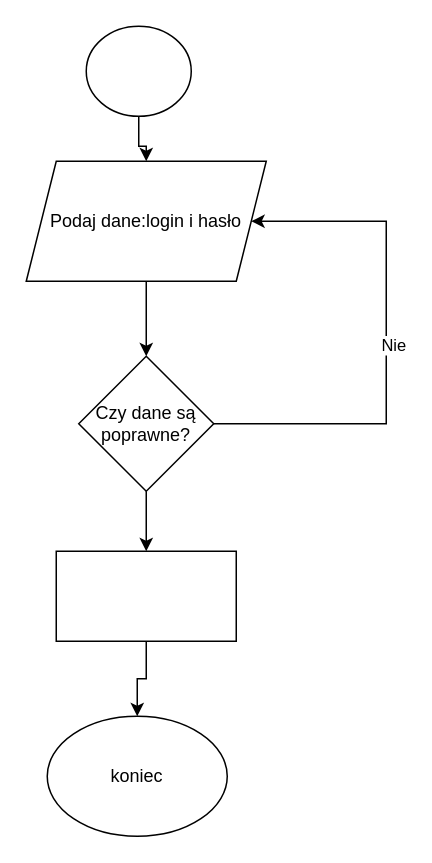
The diagram is 432 pixels wide and 863 high, and some of its shapes have lost their labels. Each missing label, with the box of its shape:
Start: (85, 25, 191, 116)
zaloguj użytkownika: (55, 550, 236, 641)
